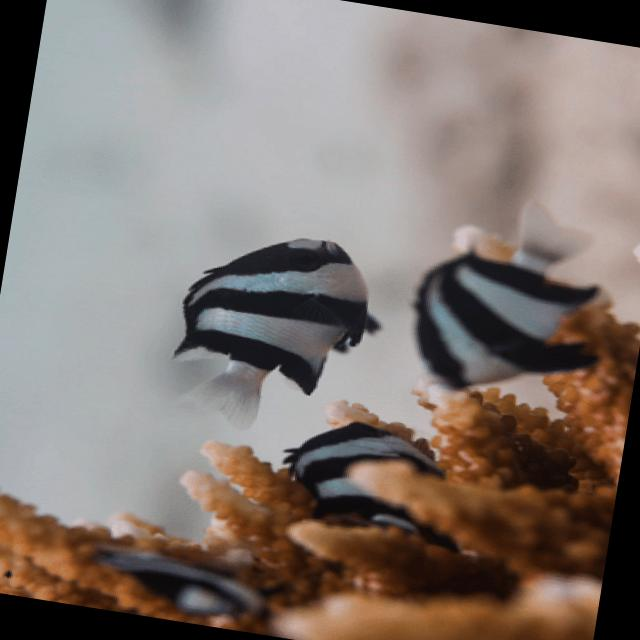ThreeStripedDamselfish: (138, 208, 390, 440), (398, 188, 620, 424)
